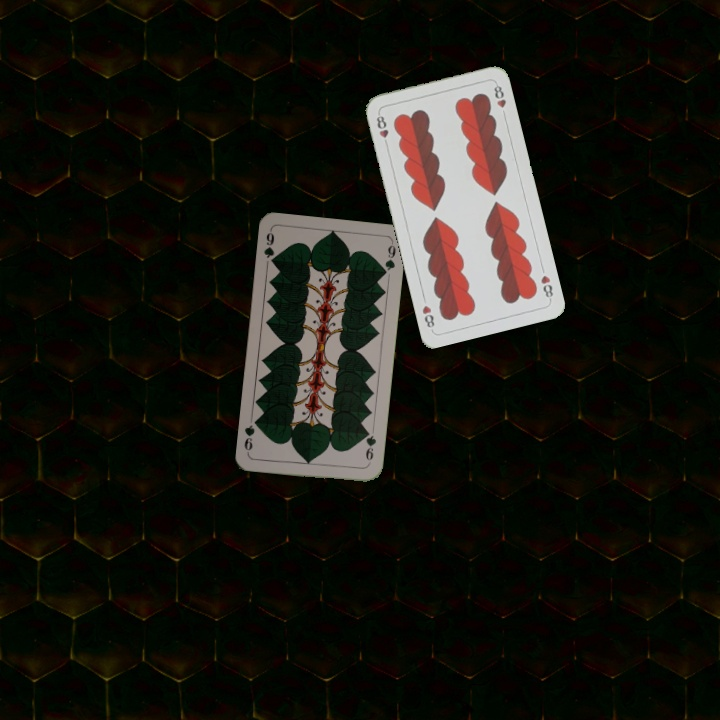G9: (260, 227, 279, 268), (362, 426, 379, 467)
H8: (372, 109, 391, 149), (537, 271, 555, 303)
